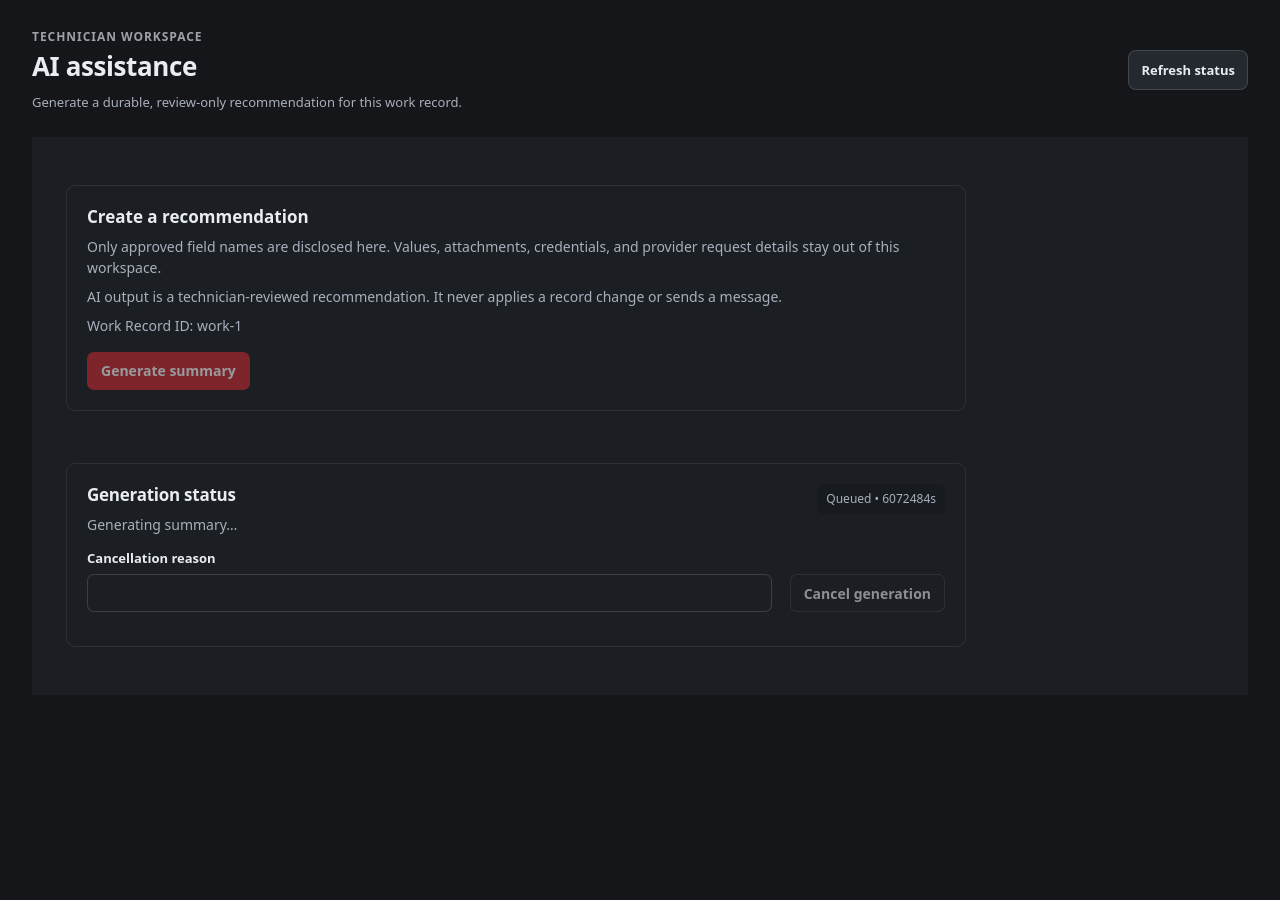
Test case: AIAssistPanel › keeps the durable job visible after a transient refresh error and recovers on manual refresh
Expected: the text "Generating summary…" is shown, [87, 514, 237, 535]
Click the button "Refresh status" at [1188, 70], box [1128, 50, 1248, 90]
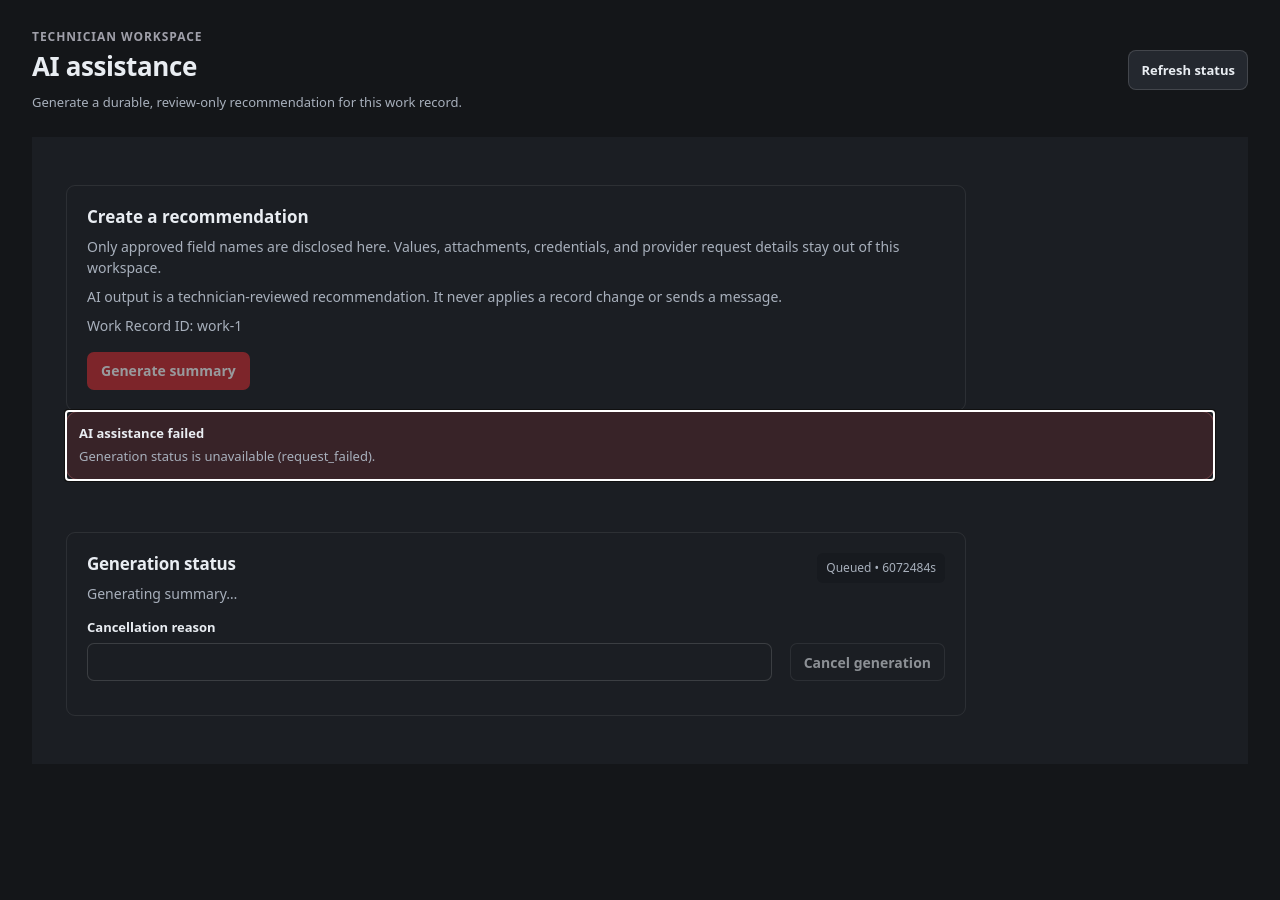
Expected: the text "Generating summary…" is shown, [87, 583, 237, 604]
Now the text "Generation status is unavailable (request_failed)." is shown, box [79, 447, 375, 465]
Click the button "Refresh status" at [1188, 70], box [1128, 50, 1248, 90]
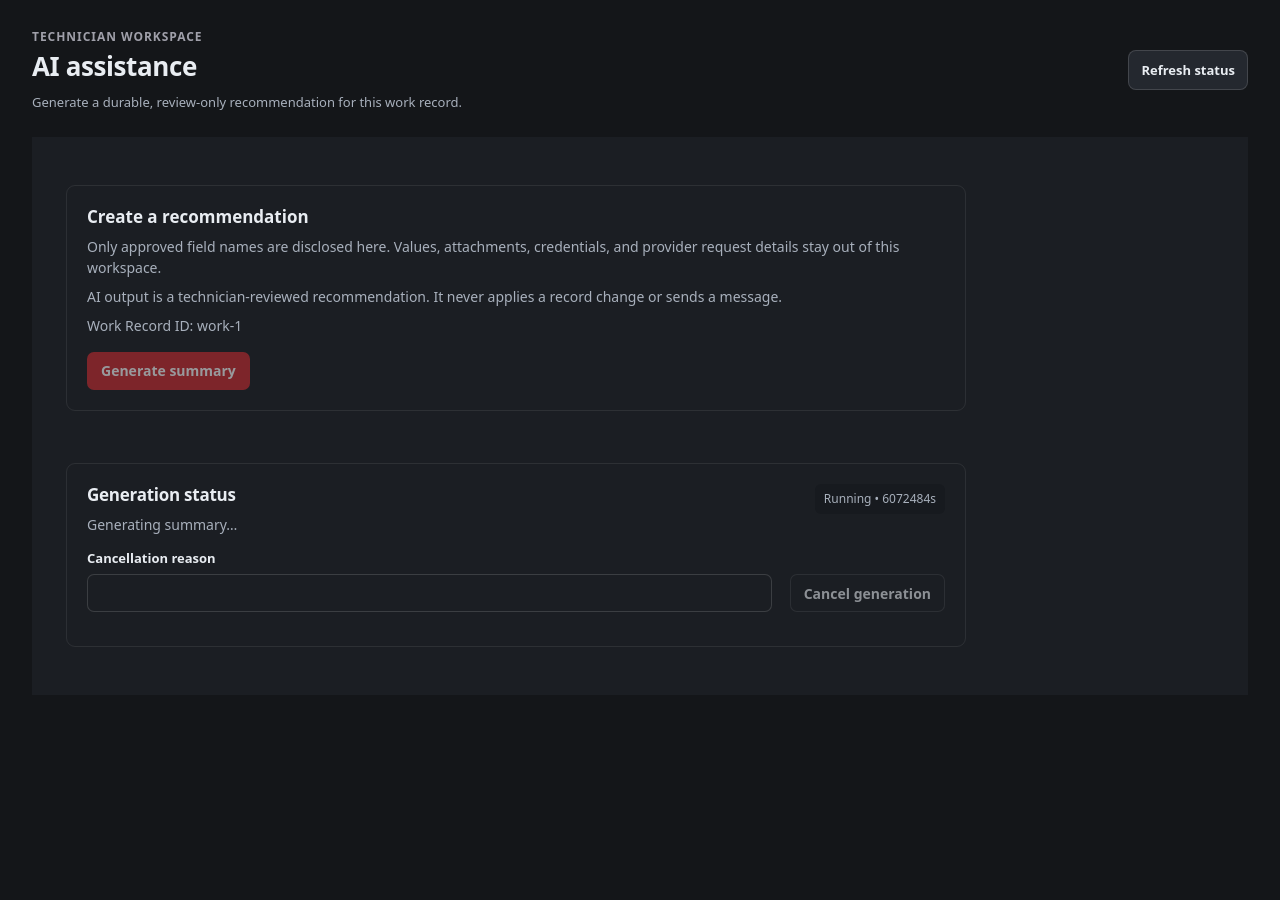
Now the text "running • 6072484s" is shown, box [815, 484, 945, 514]
